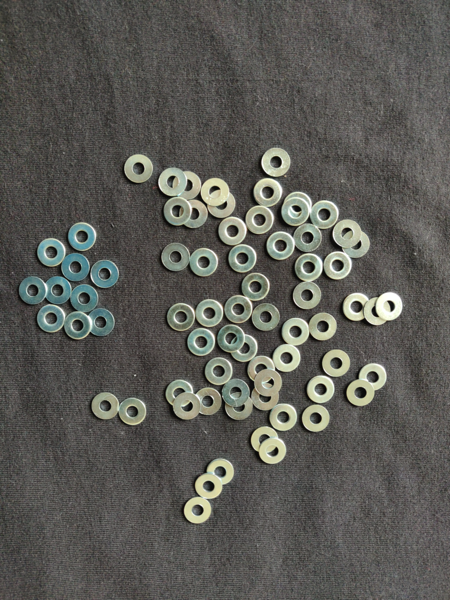circle: (161, 243, 191, 272), (188, 328, 217, 358), (262, 148, 291, 177), (254, 179, 283, 208), (68, 223, 97, 252), (37, 239, 66, 268), (190, 248, 219, 277), (219, 217, 248, 246), (180, 200, 209, 229), (311, 200, 340, 229), (165, 379, 194, 408), (293, 281, 322, 310), (267, 232, 296, 261), (333, 219, 362, 248), (125, 155, 153, 184), (159, 168, 187, 197), (173, 171, 201, 200), (208, 190, 236, 219), (19, 277, 47, 306), (62, 254, 90, 283), (38, 305, 66, 334), (309, 313, 338, 341), (284, 192, 312, 221), (246, 206, 274, 235), (228, 245, 257, 273), (225, 296, 253, 325), (217, 325, 246, 353), (281, 318, 310, 346), (251, 384, 280, 412), (205, 358, 233, 387), (222, 379, 250, 408), (302, 405, 330, 434), (322, 350, 351, 378), (324, 252, 352, 281), (70, 284, 98, 313), (201, 178, 229, 206), (91, 261, 119, 289), (87, 309, 115, 337), (164, 198, 192, 226), (343, 293, 371, 321), (282, 198, 310, 226), (167, 304, 195, 332), (231, 335, 259, 363), (273, 345, 301, 373), (92, 393, 120, 421), (119, 399, 147, 427), (225, 393, 253, 421), (307, 376, 335, 404), (294, 224, 322, 252), (173, 392, 201, 420), (45, 276, 72, 305), (251, 304, 280, 331), (359, 364, 388, 391), (183, 498, 212, 525), (194, 389, 223, 416), (65, 312, 92, 340), (376, 293, 403, 321), (243, 274, 270, 302), (196, 300, 224, 327), (248, 357, 276, 384), (255, 370, 283, 397), (270, 405, 298, 432), (347, 380, 375, 407), (296, 254, 323, 282), (251, 427, 279, 454), (259, 438, 287, 465), (343, 231, 370, 258), (365, 298, 391, 326), (206, 459, 234, 485), (195, 474, 223, 500)
